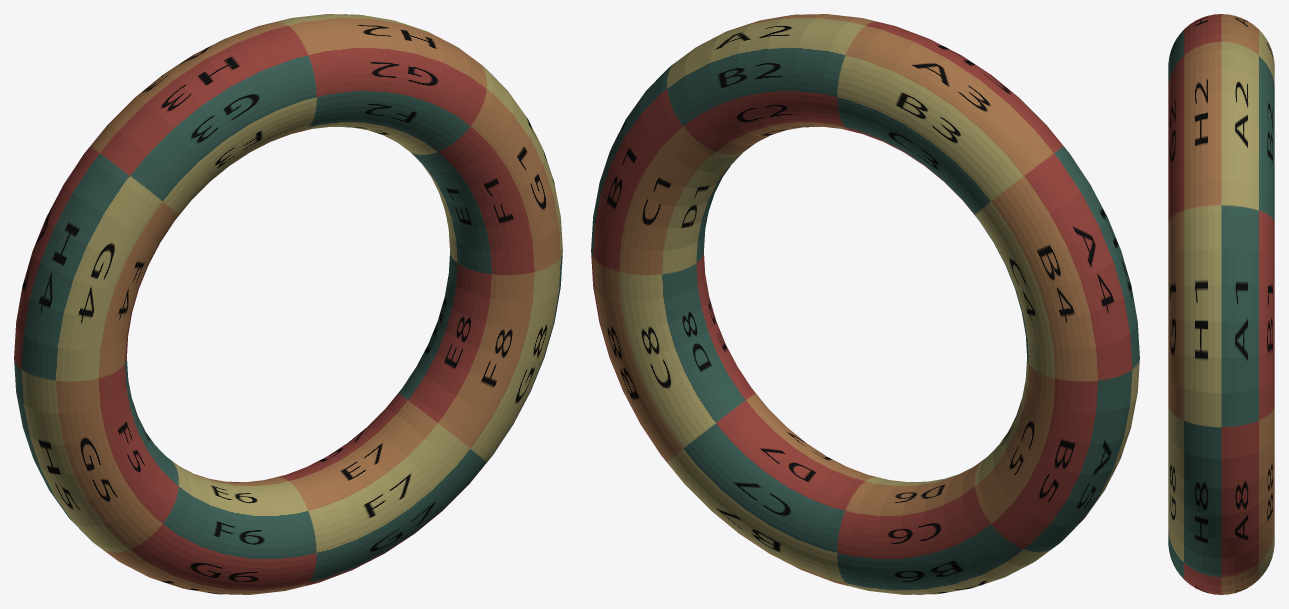
The model's file is texture_torus_R18_r11.glb.
The picture shows the model from 3 angles, left to right: view 1: azimuth 30°, elevation 25°; view 2: azimuth 150°, elevation 25°; view 3: azimuth 270°, elevation 25°; orthographic projection. The views are drawn at different scales.
Parts seen in each view (by area): view 1: world; view 2: world; view 3: world.
Boxes of the visible parts, <box> form: world: <box>14,14,562,594</box>; world: <box>591,14,1139,594</box>; world: <box>1168,14,1274,594</box>.
Size of the model in its own units: 26.93 by 26.88 by 4.92.
1 material, 1 textured.
